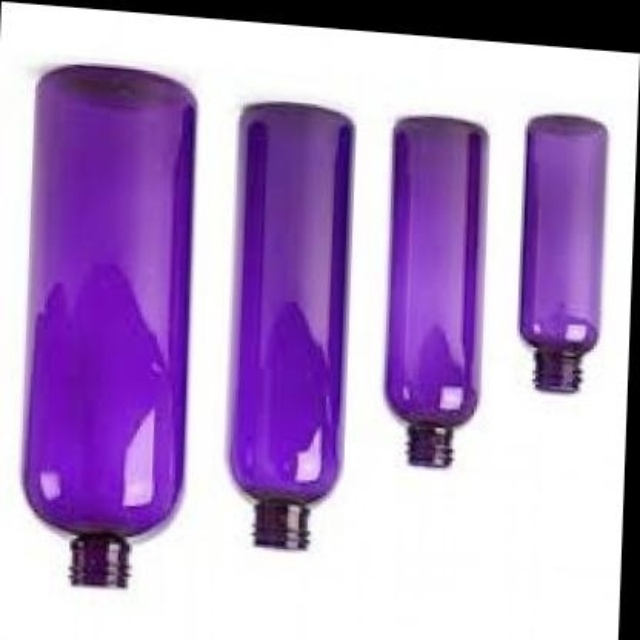trash: (23, 66, 194, 586), (231, 103, 351, 548), (386, 117, 485, 466), (520, 115, 606, 391)
